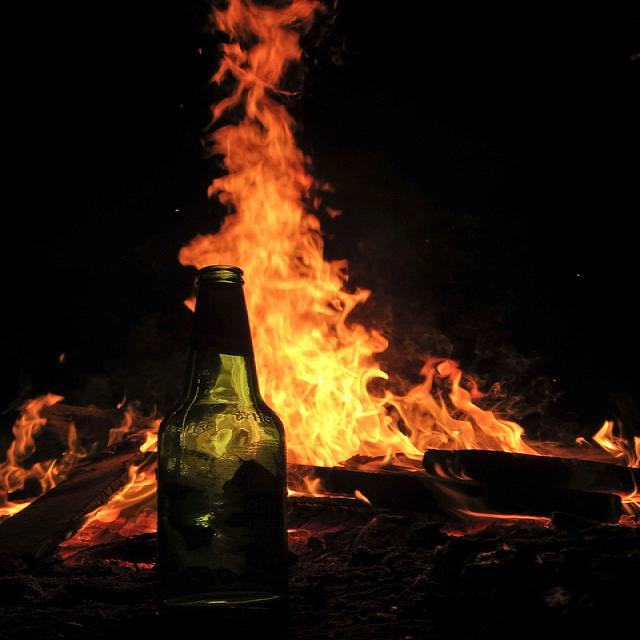Bottle: (132, 268, 305, 618)
